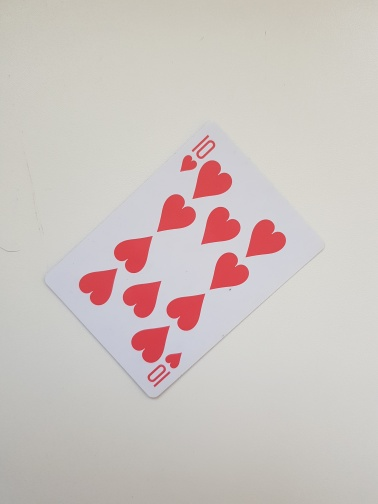ten: (42, 119, 328, 400)
